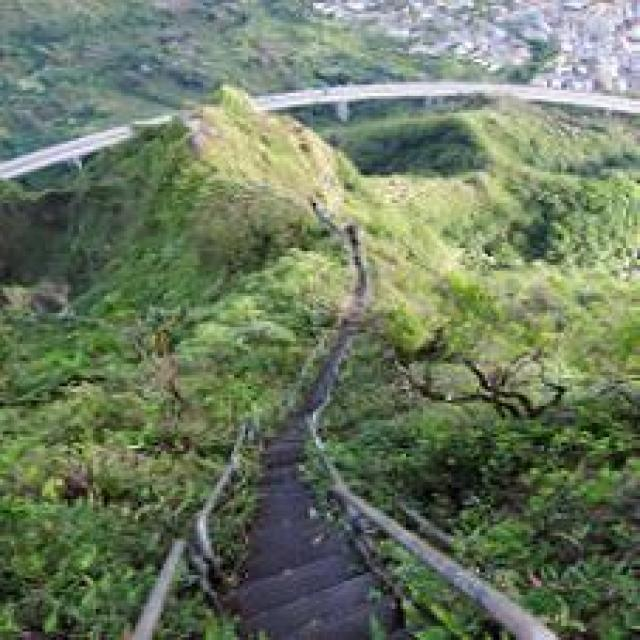stair: (206, 502, 406, 629)
